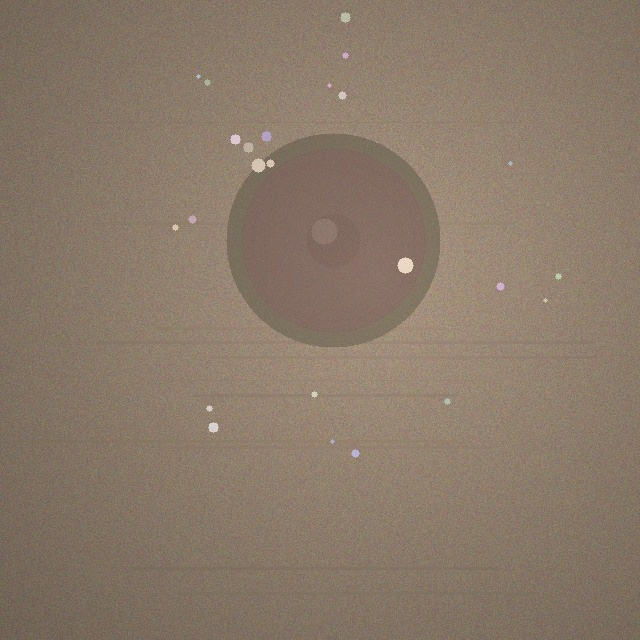overburn: (226, 133, 440, 347)
